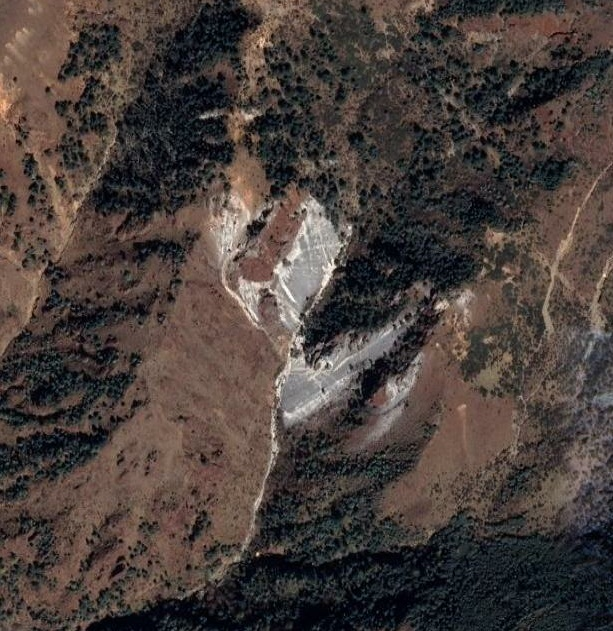slope: (279, 307, 421, 423), (236, 190, 344, 331), (197, 178, 252, 265)
